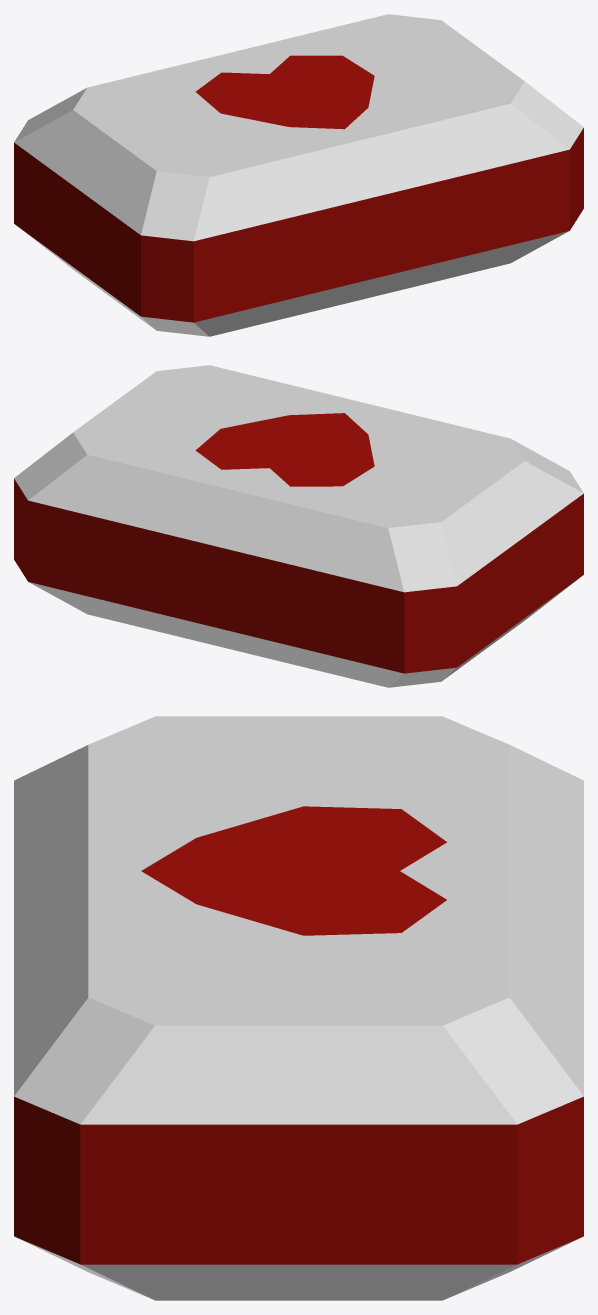
The model's file is FirstAidKitModel.glb.
The picture shows the model from 3 angles, top to bottom: view 1: azimuth 30°, elevation 25°; view 2: azimuth 150°, elevation 25°; view 3: azimuth 270°, elevation 25°; orthographic projection. The views are drawn at different scales.
Visible parts, largest first — view 1: MedPack; view 2: MedPack; view 3: MedPack.
Boxes of the visible parts, x1,y1,x2,y2 form: MedPack: (14, 14, 583, 336); MedPack: (14, 365, 583, 687); MedPack: (14, 716, 583, 1300).
Bounding box in the file's own units: 0.3734 × 0.1286 × 0.2417.
